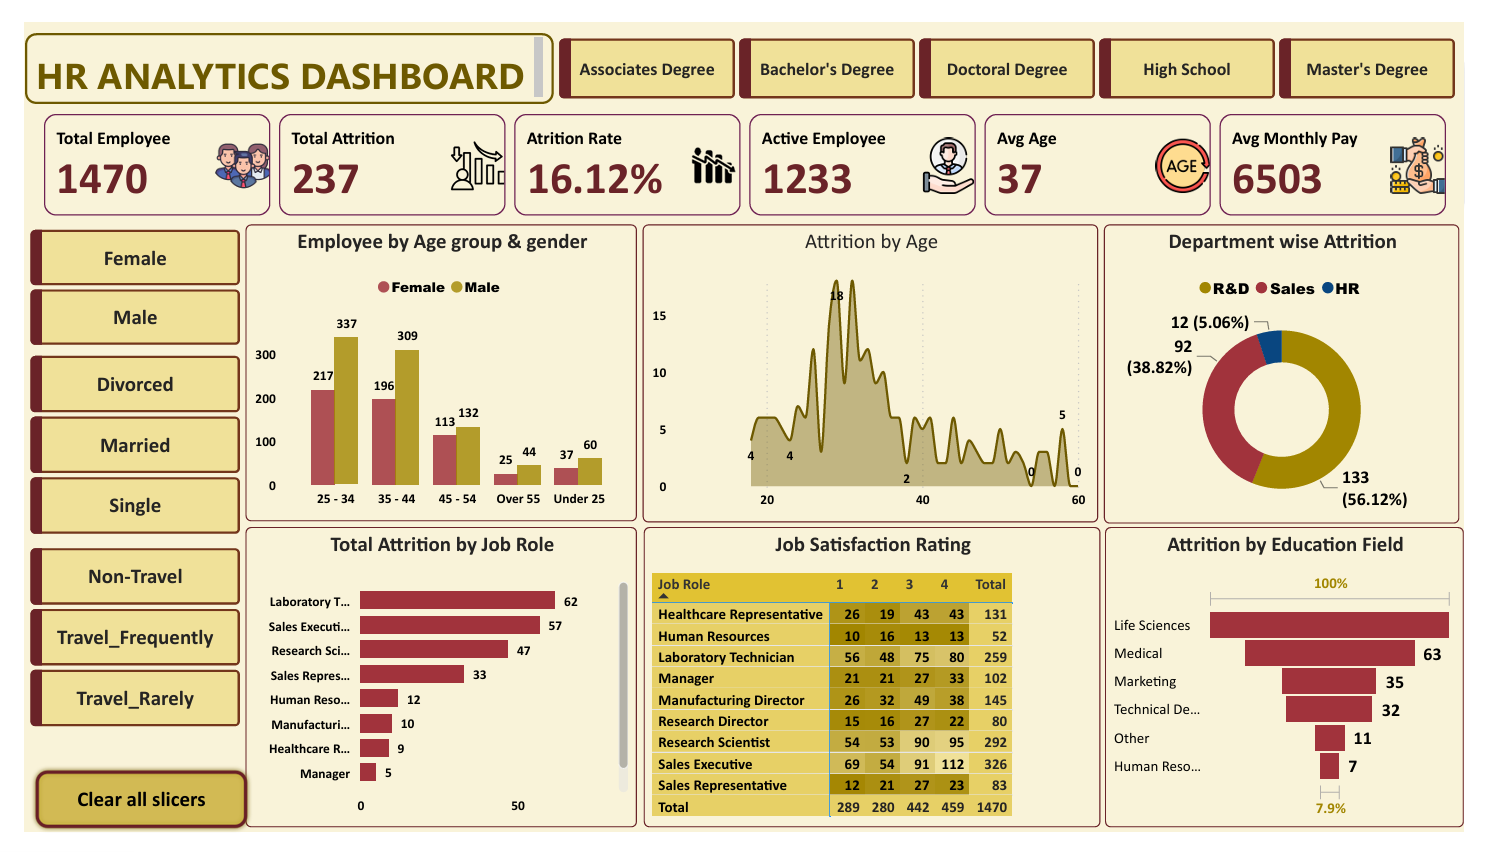

The page's visual inventory and layout, read from the dashboard file:
{"tool":"powerbi","page":{"name":"Dashboard","canvas":[1280,720],"ordinal":0},"visuals":[{"type":"cardVisual","fields":{"Data":["HR data.Total Employee","HR data.Total Attrition","HR data.Atrition Rate","HR data.Active","Avg(HR data.Age)","Avg(HR data.Monthly Income)"]},"box":[0,63.6,1280,124.7],"z":0},{"type":"clusteredColumnChart","title":"Employee by Age group & gender","fields":{"Y":["HR data.Total Employee"],"Category":["HR data.Age Group"],"Series":["HR data.Gender"]},"box":[195.7,178.5,348.5,264.1],"z":1000},{"type":"areaChart","title":"Attrition by Age","fields":{"Category":["HR data.Age"],"Y":["HR data.Total Attrition"]},"box":[549.1,178.5,404.8,265.4],"z":2000},{"type":"donutChart","title":" Department wise Attrition","fields":{"Category":["HR data.Department"],"Y":["HR data.Total Attrition"]},"box":[958.7,178.5,316.7,266.6],"z":3000},{"type":"clusteredBarChart","fields":{"Category":["HR data.Job Role"],"Y":["HR data.Total Attrition"]},"box":[195.7,447.6,348.5,267.8],"z":4000},{"type":"pivotTable","title":"Job Satisfaction Rating","fields":{"Rows":["HR data.Job Role"],"Values":["HR data.Total Employee"],"Columns":["HR data.Job Satisfaction"]},"box":[550.3,447.6,406,267.8],"z":5000},{"type":"funnel","title":"Attrition by Education Field","fields":{"Category":["HR data.Education Field"],"Y":["HR data.Total Attrition"]},"box":[959.9,447.6,319.2,267.8],"z":6000},{"type":"advancedSlicerVisual","fields":{"Values":["HR data.Gender"]},"box":[0,178.5,196.5,113],"z":6001},{"type":"advancedSlicerVisual","fields":{"Values":["HR data.Marital Status"]},"box":[0,291,196.5,170.8],"z":6002},{"type":"advancedSlicerVisual","fields":{"Values":["HR data.Business Travel"]},"box":[0,462.2,196.5,170.8],"z":6003},{"type":"advancedSlicerVisual","fields":{"Values":["HR data.Education"]},"box":[469.6,8.6,810.7,63.6],"z":6004},{"type":"actionButton","box":[5.1,660,196.5,60.4],"z":6005},{"type":"textbox","box":[0,8.6,469.6,63.6],"z":6006}]}

Visuals, with their boxes in screenshot pixels (x1, y1, x2, y2), scaled from the page's 1280x720 canvas onto the 1492x852 screenshot:
cardVisual - HR data.Total Employee x HR data.Total Attrition: <region>0, 75, 1491, 223</region>
"Employee by Age group & gender" clusteredColumnChart: <region>228, 211, 634, 524</region>
"Attrition by Age" areaChart: <region>640, 211, 1112, 525</region>
" Department wise Attrition" donutChart: <region>1117, 211, 1487, 527</region>
clusteredBarChart - HR data.Job Role x HR data.Total Attrition: <region>228, 530, 634, 847</region>
"Job Satisfaction Rating" pivotTable: <region>641, 530, 1115, 847</region>
"Attrition by Education Field" funnel: <region>1119, 530, 1491, 847</region>
advancedSlicerVisual - HR data.Gender: <region>0, 211, 229, 345</region>
advancedSlicerVisual - HR data.Marital Status: <region>0, 344, 229, 546</region>
advancedSlicerVisual - HR data.Business Travel: <region>0, 547, 229, 749</region>
advancedSlicerVisual - HR data.Education: <region>547, 10, 1491, 85</region>
actionButton: <region>6, 781, 235, 851</region>
textbox: <region>0, 10, 547, 85</region>
